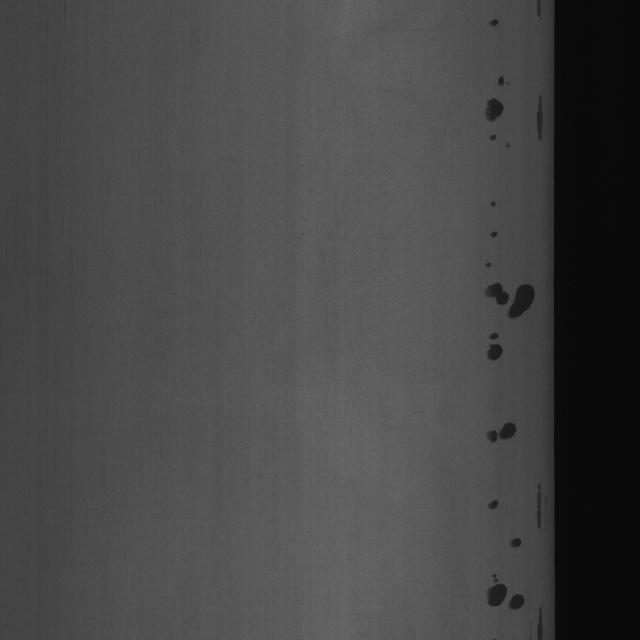welding_line: (474, 246, 540, 372), (480, 570, 548, 638), (480, 404, 527, 452), (482, 68, 518, 127), (529, 92, 549, 146), (487, 176, 502, 244), (482, 478, 507, 517), (530, 486, 548, 532), (484, 14, 504, 42), (530, 0, 546, 28), (508, 540, 524, 565)
